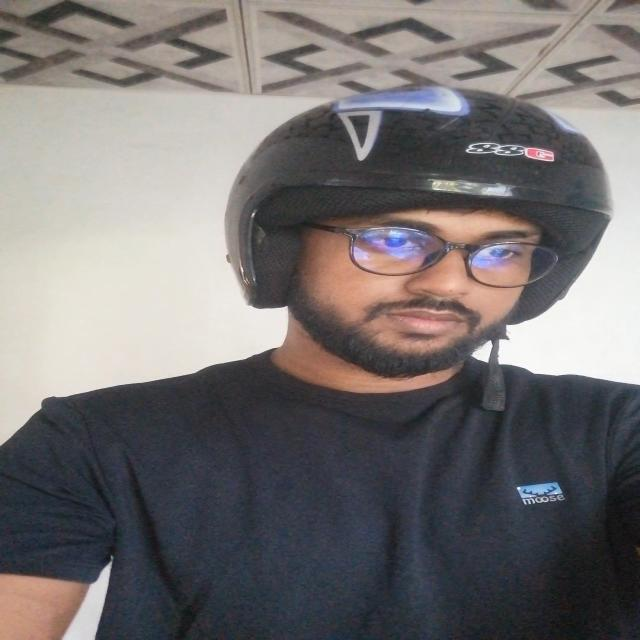Helmet_Wearer: (218, 80, 616, 426)
Person: (4, 84, 640, 634)
